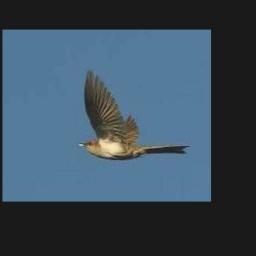Cuckoo: (78, 69, 191, 159)
